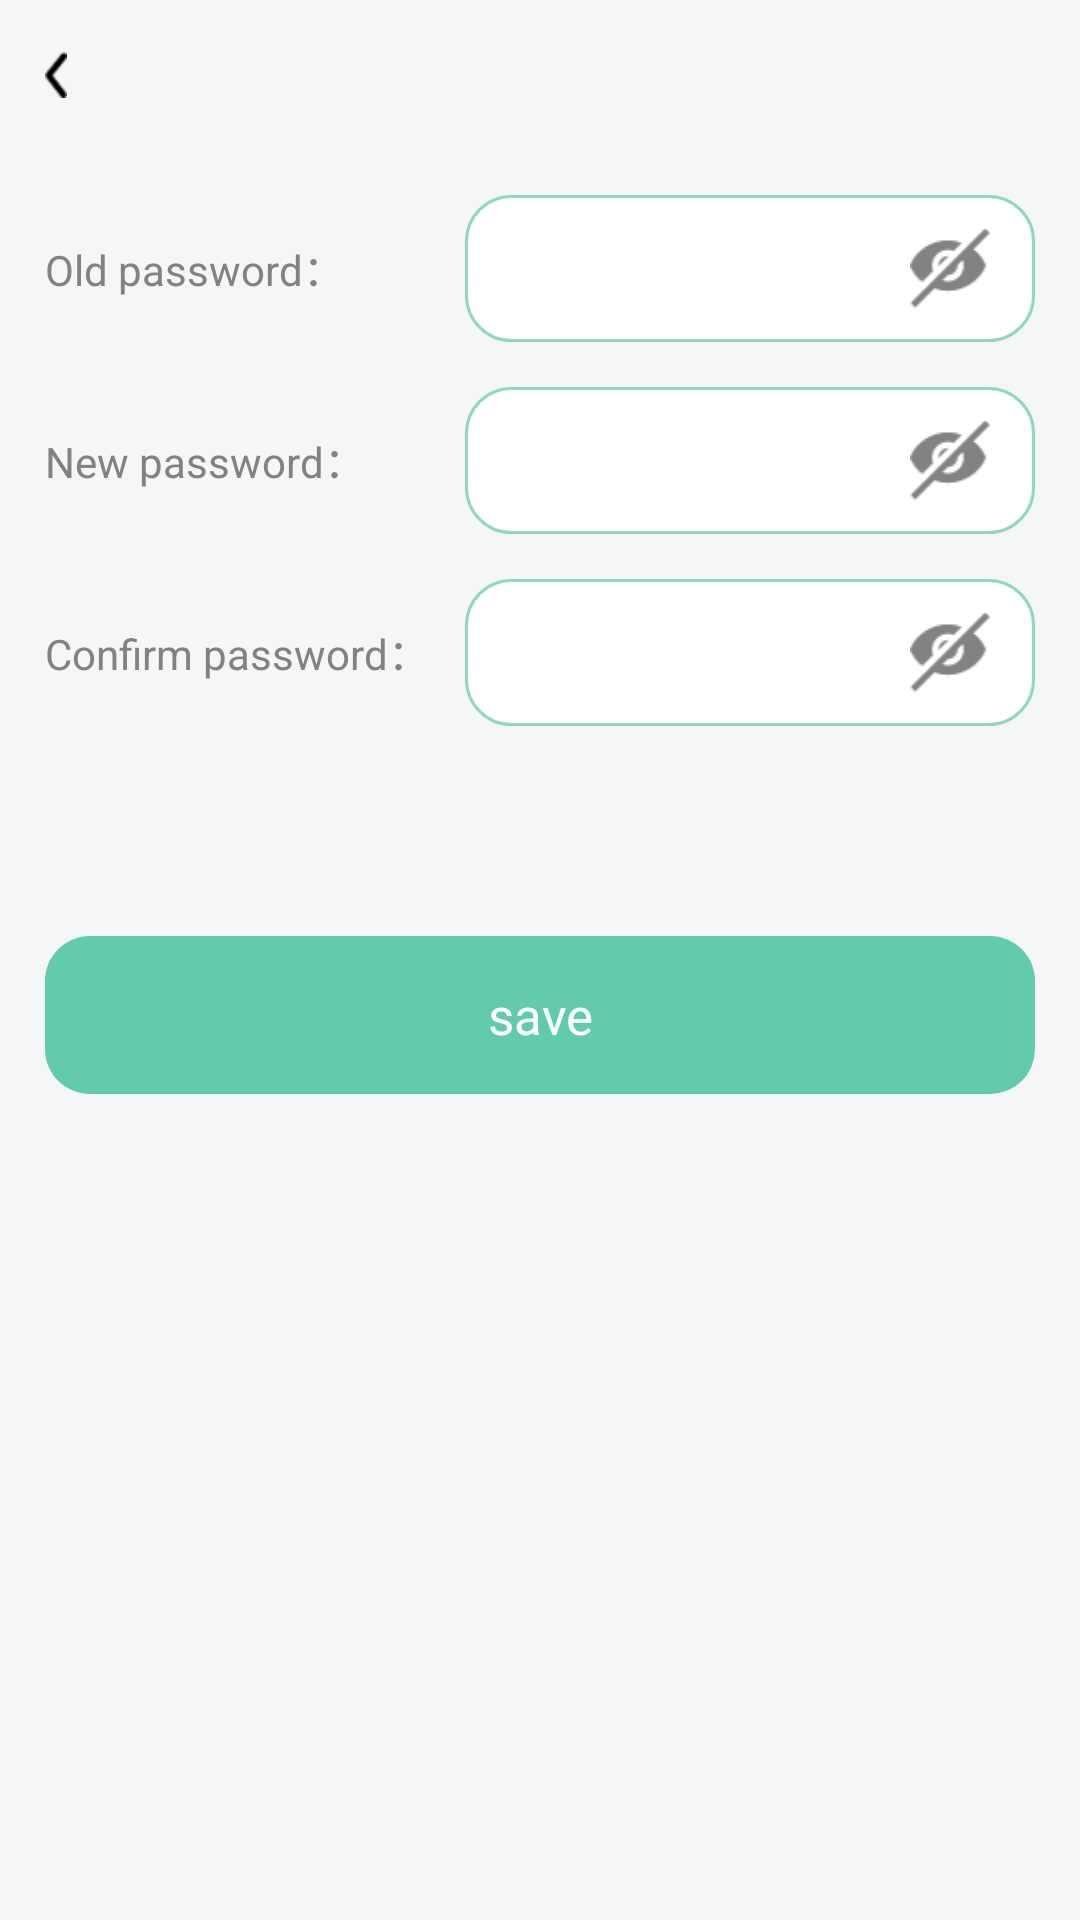

Where icons sit on this 1080w x 1920h app screen, as (x1, y1, x2, y2):
left: (45, 52, 67, 98)
pwd close: (910, 229, 990, 307), (910, 421, 990, 499), (910, 613, 990, 691)
